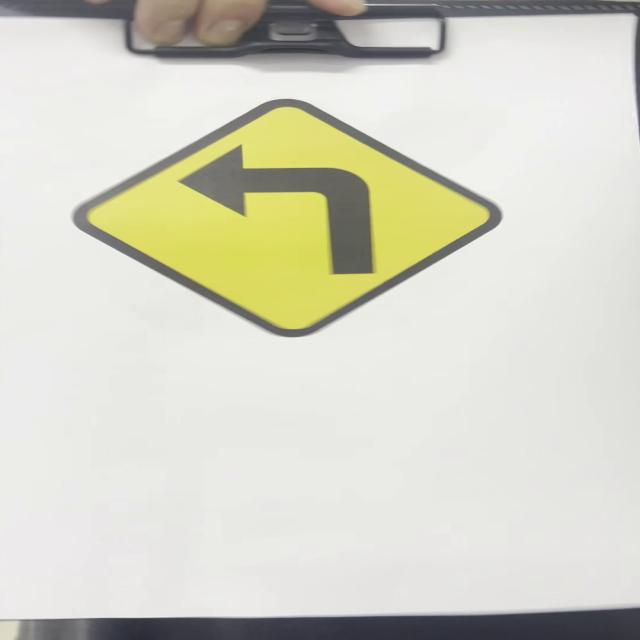left: (74, 101, 509, 341)
